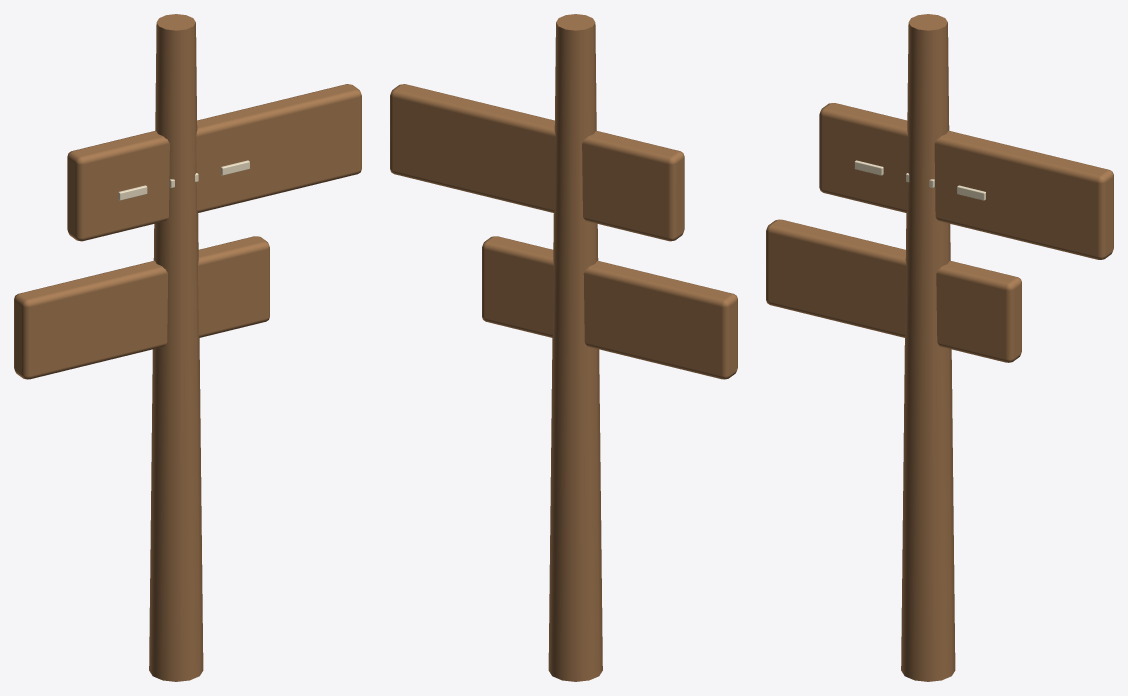
File: almanac-gardens-wayfinding-sign-4ee499c2__22029.glb
The picture shows the model from 3 angles, left to right: view 1: azimuth 30°, elevation 25°; view 2: azimuth 150°, elevation 25°; view 3: azimuth 330°, elevation 25°; orthographic projection.
Parts seen in each view (by area): view 1: wayfinding-sign-oak, wayfinding-sign-ivory; view 2: wayfinding-sign-oak; view 3: wayfinding-sign-oak, wayfinding-sign-ivory.
Part boxes in pixels (x1=…): wayfinding-sign-oak: x1=14, y1=14, x2=361, y2=681; wayfinding-sign-ivory: x1=118, y1=160, x2=249, y2=200; wayfinding-sign-oak: x1=390, y1=14, x2=737, y2=681; wayfinding-sign-oak: x1=766, y1=14, x2=1113, y2=681; wayfinding-sign-ivory: x1=854, y1=160, x2=985, y2=200.
Bounding box in the file's own units: 0.795 × 1.45 × 0.1099.
